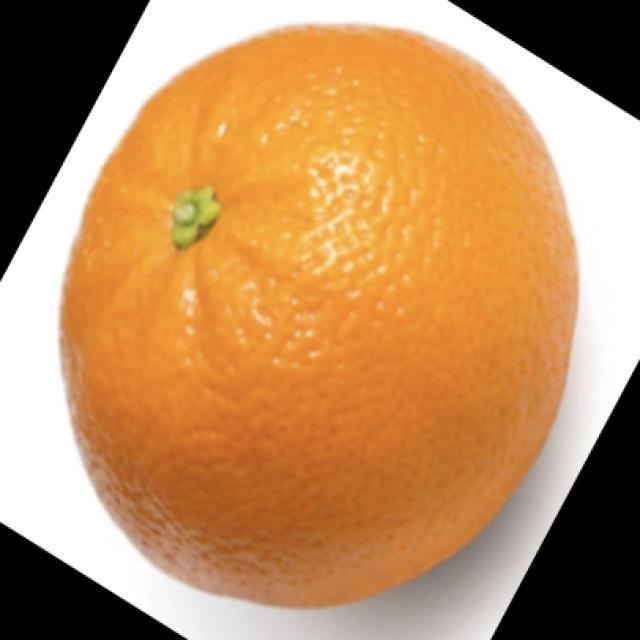Orange: (57, 21, 580, 609)
